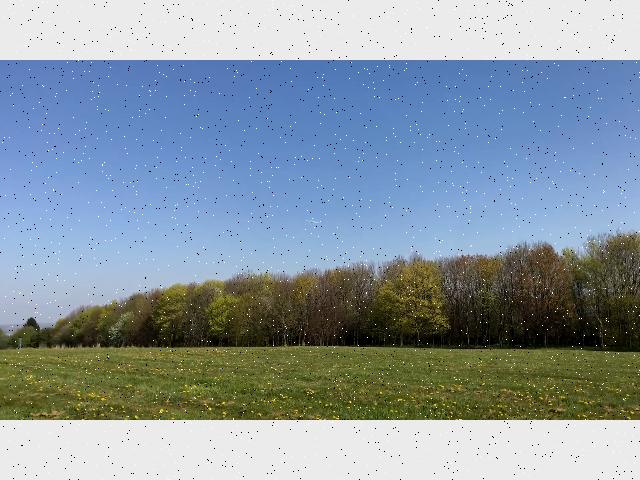Anti-Drone: (298, 212, 332, 235)
